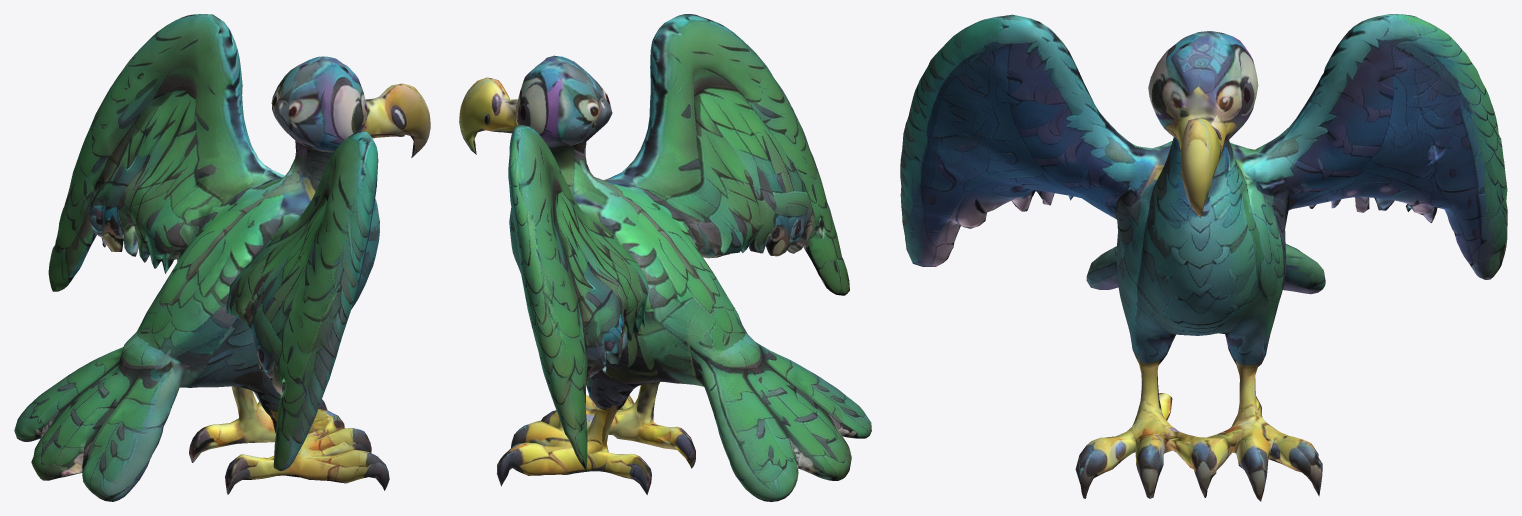
Rendered from Condor_Low.fbx.
The picture shows the model from 3 angles, left to right: view 1: azimuth 30°, elevation 25°; view 2: azimuth 150°, elevation 25°; view 3: azimuth 270°, elevation 25°; orthographic projection. The views are drawn at different scales.
Parts seen in each view (by area): view 1: Mesh_0; view 2: Mesh_0; view 3: Mesh_0.
Boxes of the visible parts, bbox=[...] form: Mesh_0: bbox=[14, 14, 430, 501]; Mesh_0: bbox=[459, 14, 871, 501]; Mesh_0: bbox=[900, 14, 1507, 501].
Size of the model in its own units: 103 by 100 by 120.
1 material, 1 textured.
